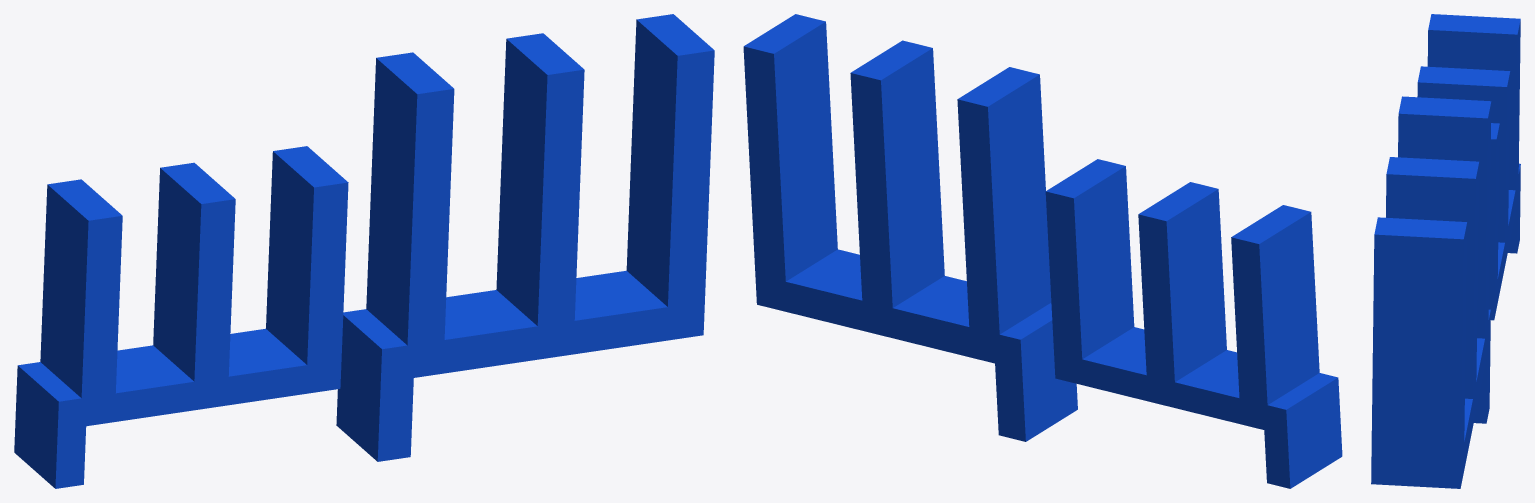
3 views of the same model, side by side, from view 1: azimuth 30°, elevation 25°; view 2: azimuth 150°, elevation 25°; view 3: azimuth 270°, elevation 25° (orthographic). The views are drawn at different scales.
Visible parts, largest first — view 1: Mesh_0.031; view 2: Mesh_0.031; view 3: Mesh_0.031.
Part boxes in pixels (x1=…): Mesh_0.031: x1=14, y1=14, x2=714, y2=488; Mesh_0.031: x1=743, y1=14, x2=1342, y2=488; Mesh_0.031: x1=1371, y1=14, x2=1520, y2=488.
Bounding box in the file's own units: 16.98 × 9.18 × 3.8.
